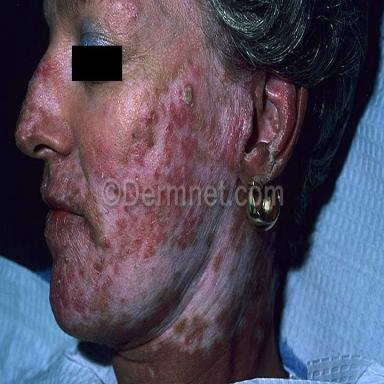Lupus-Erythematosus-Chronicus-Discoides: (41, 48, 264, 354), (15, 53, 63, 148)
